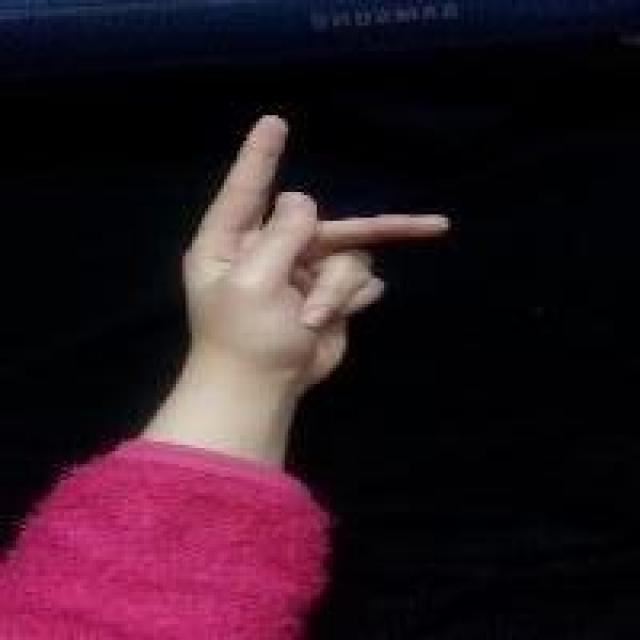K: (176, 112, 454, 381)
